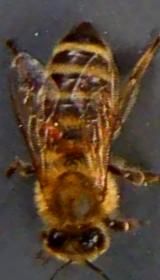varroa_mite: (42, 114, 68, 142)
